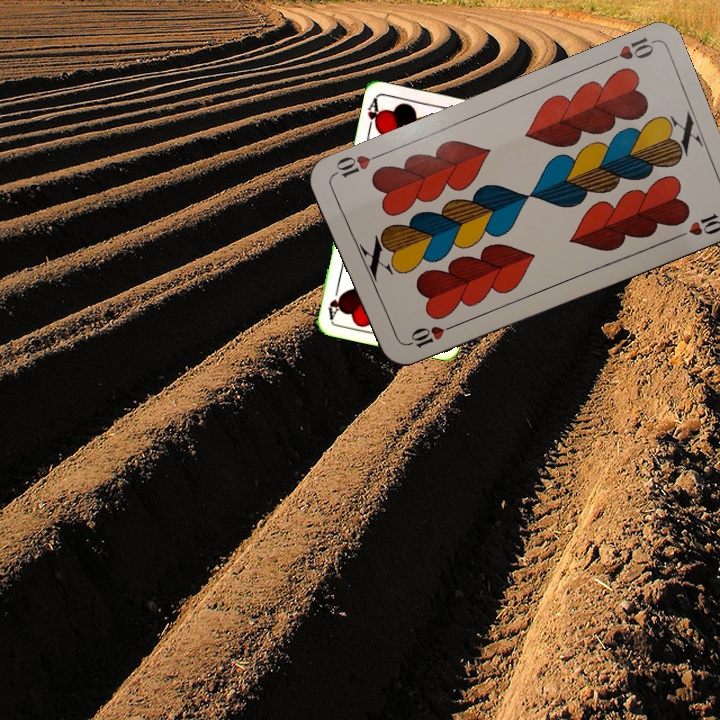H10: (599, 33, 657, 66), (400, 320, 457, 351)
HA: (364, 95, 384, 135)
